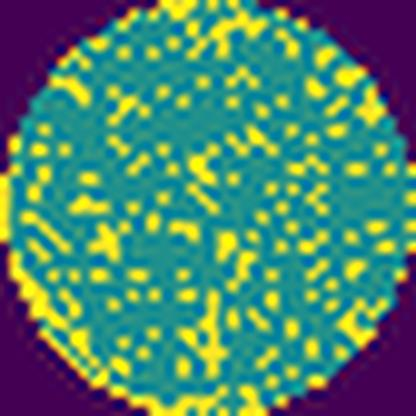Edge-Loc: (0, 246, 231, 416), (189, 0, 276, 57), (0, 165, 23, 249), (223, 376, 270, 416), (153, 0, 203, 22)
